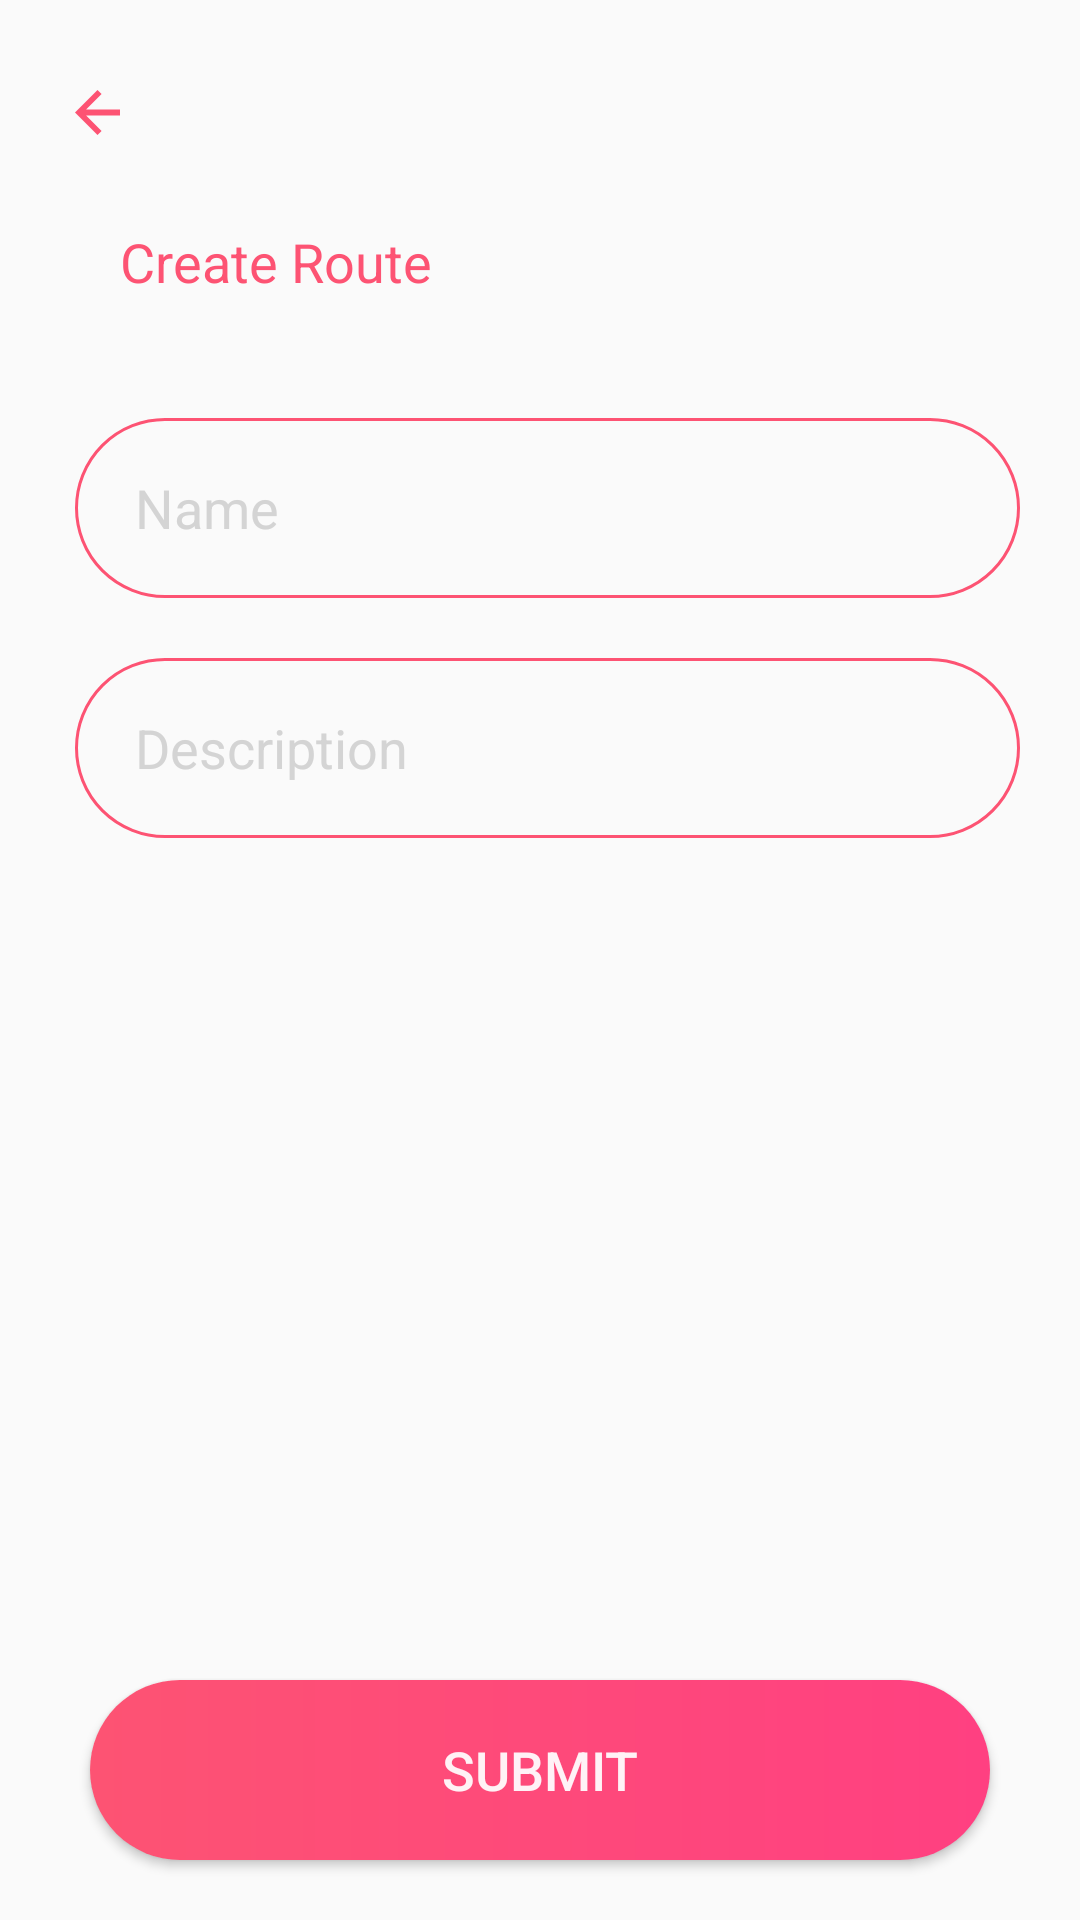

Icon click points for this 1080*1920 phone screenshot, format (x,y):
backward: (97,112)
